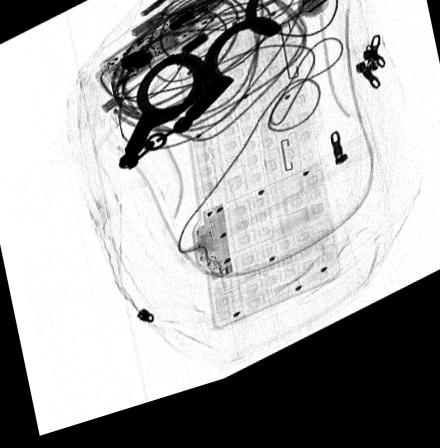HandCuffs: (116, 0, 281, 176)
